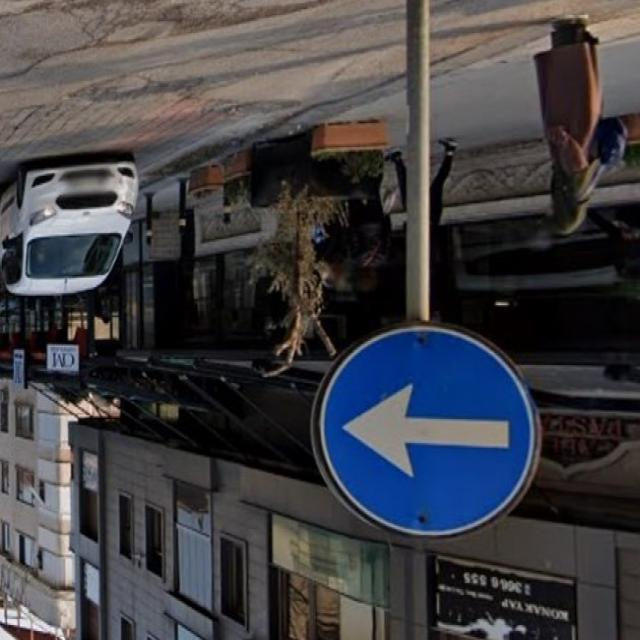Turn Left: (308, 325, 538, 550)
